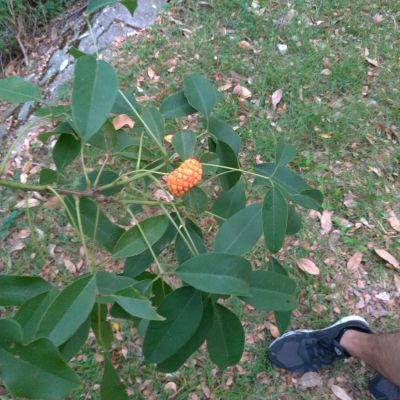eggs: (166, 156, 204, 198)
